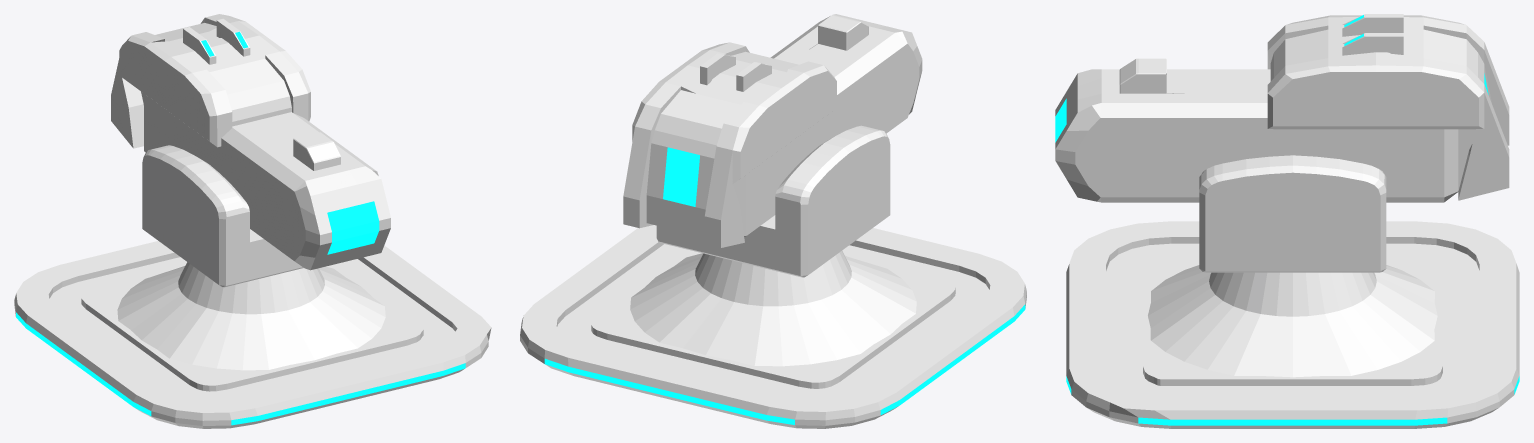
File: laser_turret_low_poly.glb
The picture shows the model from 3 angles, left to right: view 1: azimuth 30°, elevation 25°; view 2: azimuth 150°, elevation 25°; view 3: azimuth 270°, elevation 25°; orthographic projection. The views are drawn at different scales.
Visible parts, largest first — view 1: Cube, Cube.002; view 2: Cube, Cube.002; view 3: Cube.002, Cube.
Boxes of the visible parts, box(x1,y1,x2,y2) form: Cube: box(14, 241, 491, 428); Cube.002: box(111, 14, 390, 287); Cube: box(520, 225, 1026, 428); Cube.002: box(623, 14, 922, 277); Cube.002: box(1055, 14, 1509, 272); Cube: box(1066, 221, 1519, 428).
Bounding box in the file's own units: 2.86 × 2.17 × 2.93.
